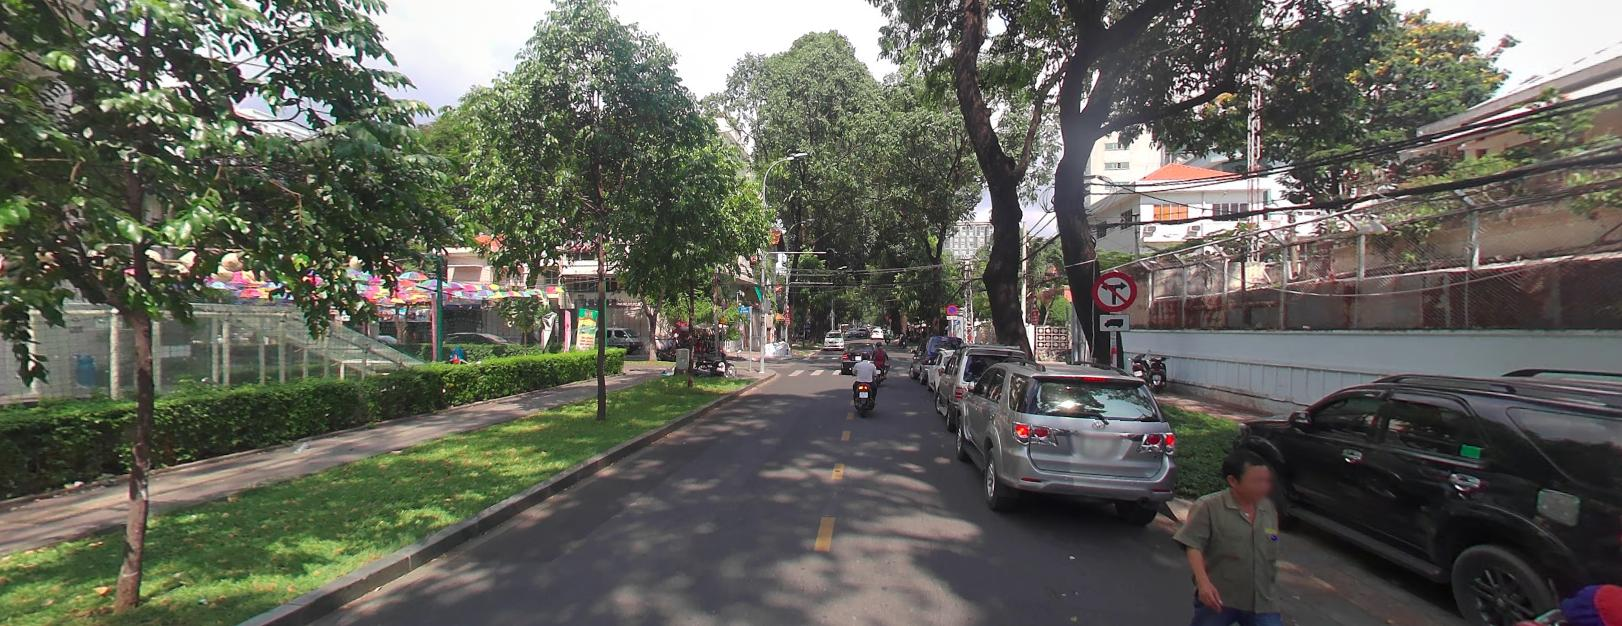Cam dung va do: (947, 303, 957, 312), (721, 299, 724, 309)
Cam re: (1093, 270, 1137, 309)
Nguy hiem: (719, 314, 724, 321)
